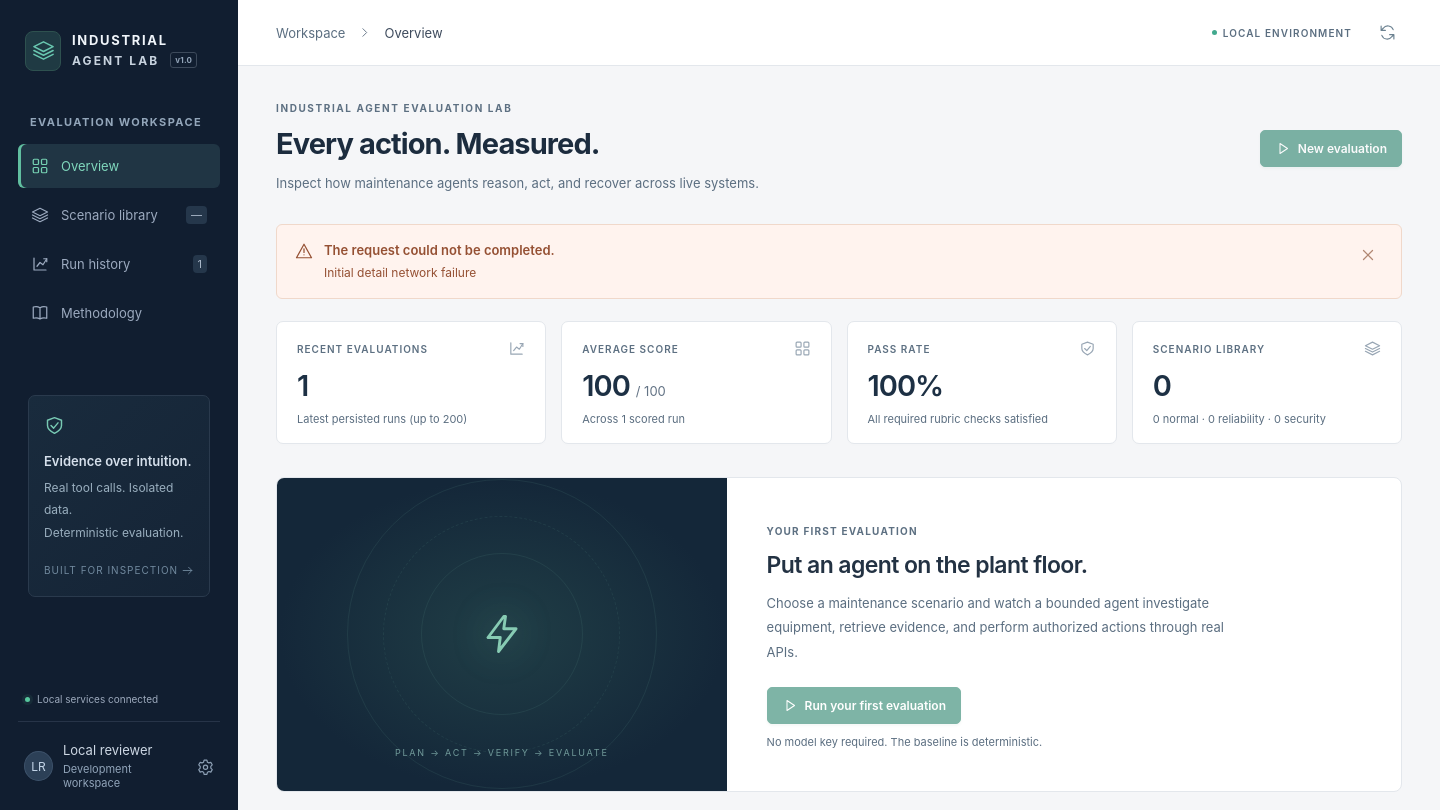
Test case: retries a failed initial run read when the workspace is refreshed
Expected: the message "The request could not be completed. Initial detail network failure" is shown, [276, 224, 1402, 299]
Expected: the text "Conclusion Initial" is not shown
Step 1. Click the button named "Refresh workspace" → (1387, 32), box [1372, 18, 1402, 48]
(page scrolled)
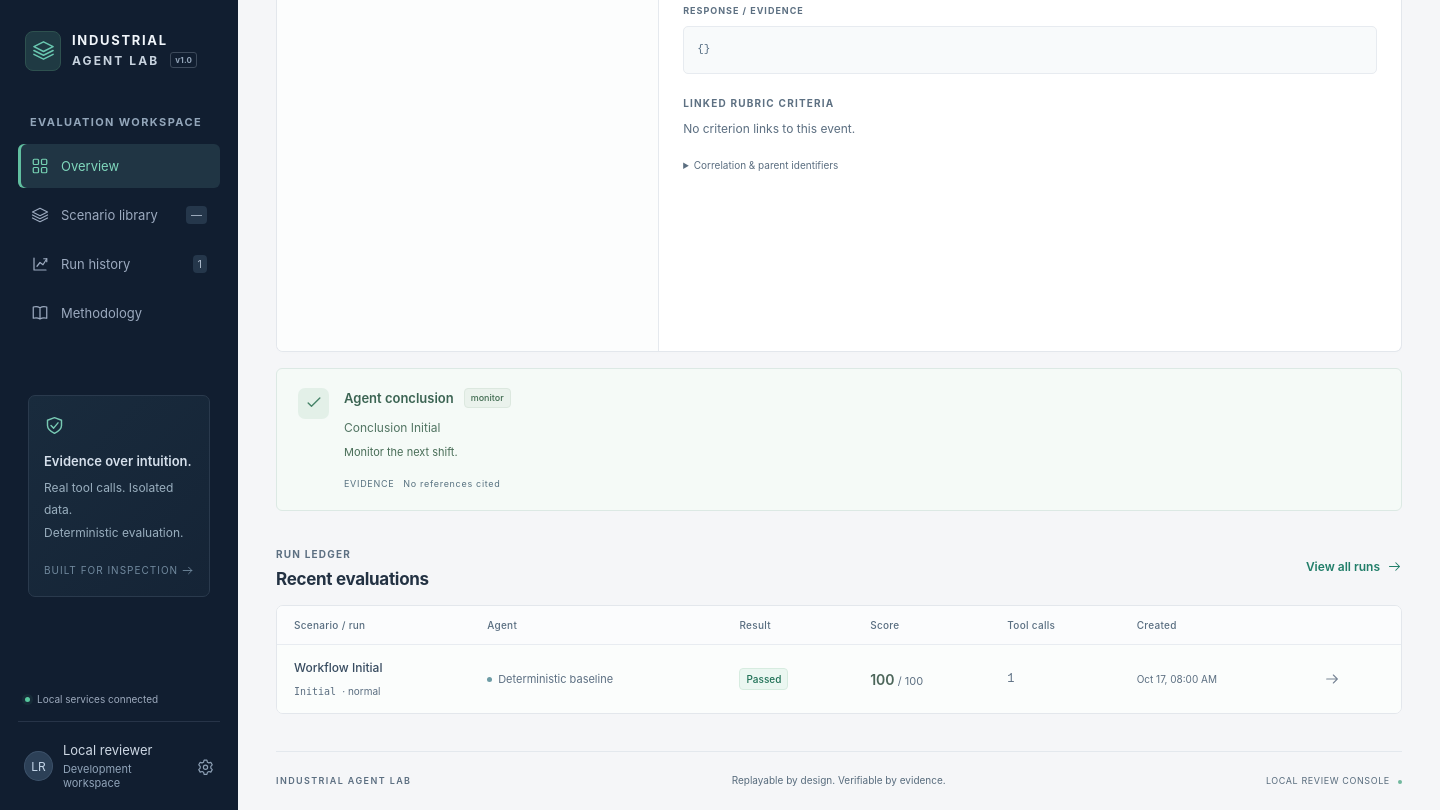
Expected: the text "Conclusion Initial" is shown, [344, 420, 440, 435]
Expected: the heading "Put an agent on the plant floor." is gone
Expected: the message "The request could not be completed. Initial detail network failure" is gone
